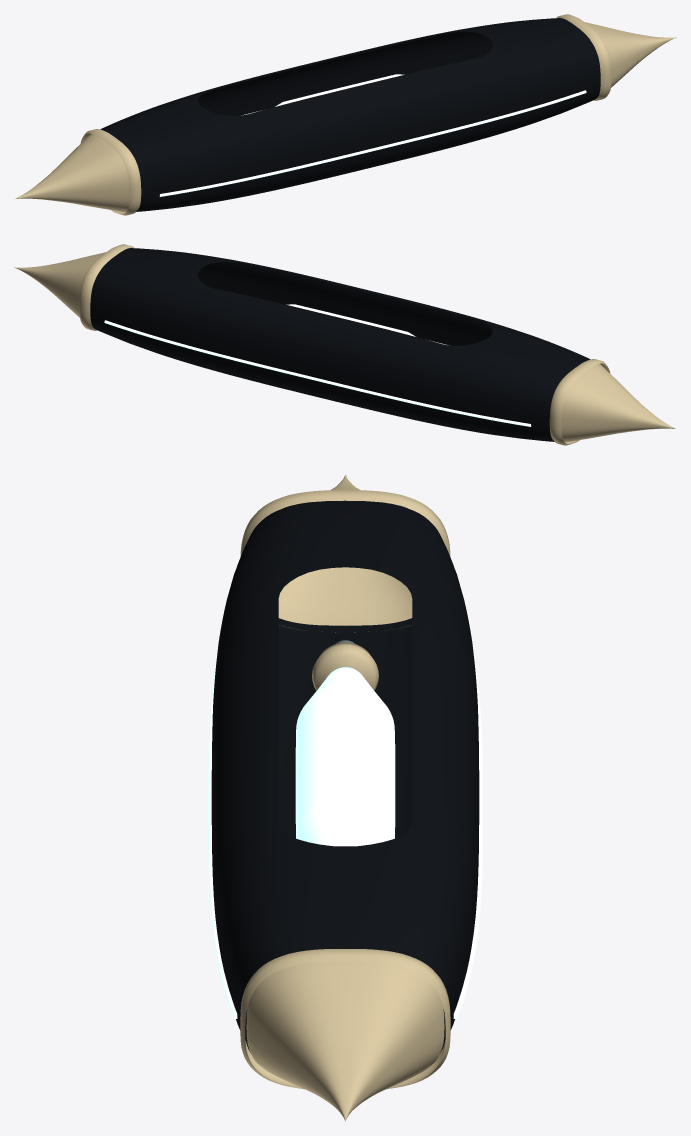
File: shuttle.glb
The picture shows the model from 3 angles, top to bottom: view 1: azimuth 30°, elevation 25°; view 2: azimuth 150°, elevation 25°; view 3: azimuth 270°, elevation 25°; orthographic projection. The views are drawn at different scales.
Visible parts, largest first — view 1: ShuttleBody, Seam_B, Band_L, Band_R, Pirn_Thread; view 2: ShuttleBody, Seam_A, Band_L, Band_R, Pirn_Thread; view 3: ShuttleBody, Pirn_Thread, Band_R, Band_L, Pirn_CapL, Seam_A, Seam_B.
Boxes of the visible parts, x1=… form: ShuttleBody: x1=15, y1=18, x2=676, y2=212; Seam_B: x1=159, y1=90, x2=586, y2=196; Band_L: x1=80, y1=129, x2=141, y2=215; Band_R: x1=556, y1=14, x2=611, y2=100; Pirn_Thread: x1=275, y1=74, x2=404, y2=106; ShuttleBody: x1=14, y1=248, x2=675, y2=442; Seam_A: x1=104, y1=320, x2=531, y2=426; Band_L: x1=549, y1=359, x2=610, y2=445; Band_R: x1=79, y1=244, x2=134, y2=330; Pirn_Thread: x1=286, y1=304, x2=415, y2=336; ShuttleBody: x1=211, y1=474, x2=479, y2=1121; Pirn_Thread: x1=295, y1=667, x2=395, y2=846; Band_R: x1=240, y1=949, x2=450, y2=1089; Band_L: x1=240, y1=490, x2=450, y2=632; Pirn_CapL: x1=312, y1=642, x2=378, y2=690; Seam_A: x1=453, y1=661, x2=482, y2=1018; Seam_B: x1=208, y1=661, x2=237, y2=1018.
Size of the model in its own units: 3.89 by 0.4718 by 0.6992.
